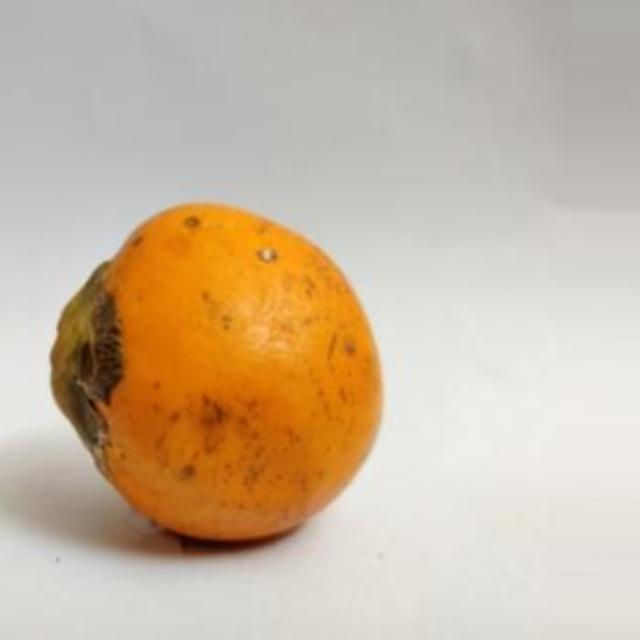good: (49, 203, 386, 547)
